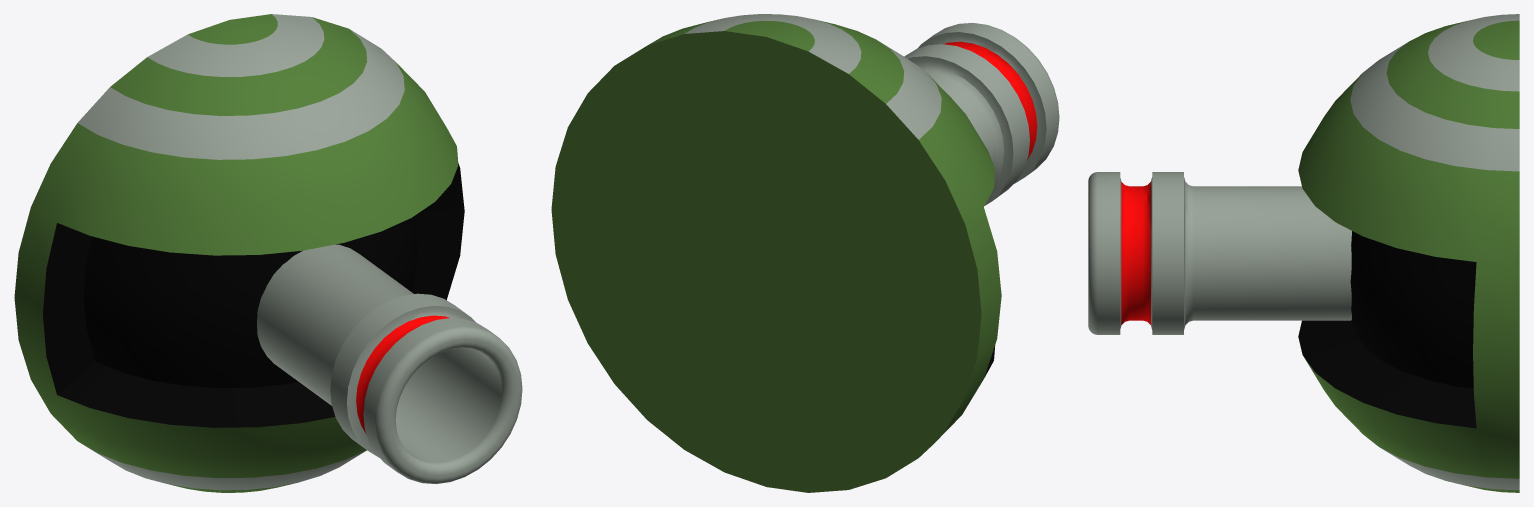
Rendered from CannonGun.fbx.
The picture shows the model from 3 angles, left to right: view 1: azimuth 30°, elevation 25°; view 2: azimuth 150°, elevation 25°; view 3: azimuth 270°, elevation 25°; orthographic projection. The views are drawn at different scales.
Visible parts, largest first — view 1: CannonGun, Barrel; view 2: CannonGun, Barrel; view 3: CannonGun, Barrel.
Boxes of the visible parts, left/top/right/bottom form: CannonGun: left=14, top=14, right=464, bottom=492; Barrel: left=257, top=244, right=522, bottom=483; CannonGun: left=551, top=14, right=1001, bottom=492; Barrel: left=904, top=23, right=1059, bottom=205; CannonGun: left=1298, top=14, right=1519, bottom=492; Barrel: left=1088, top=172, right=1351, bottom=334.
Bounding box in the file's own units: 1 × 1 × 0.9.
